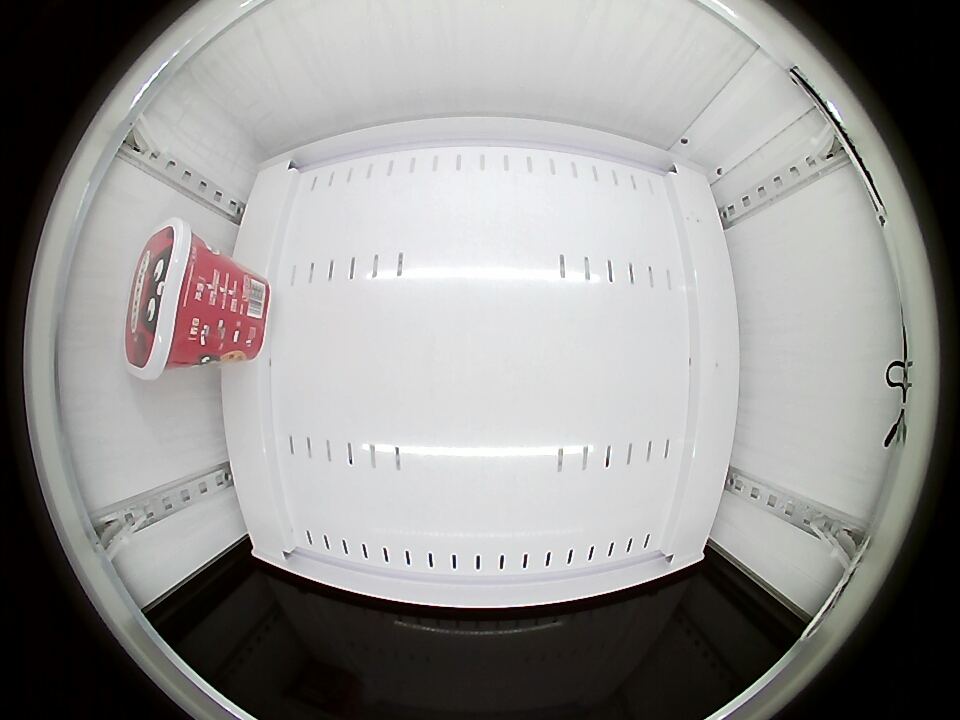niudufen: (126, 219, 210, 379)
